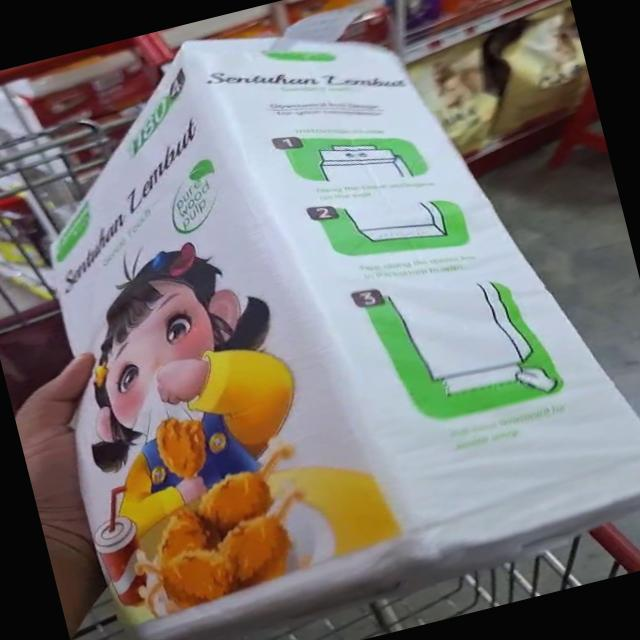Tisu: (2, 215, 640, 640), (0, 17, 513, 380)
